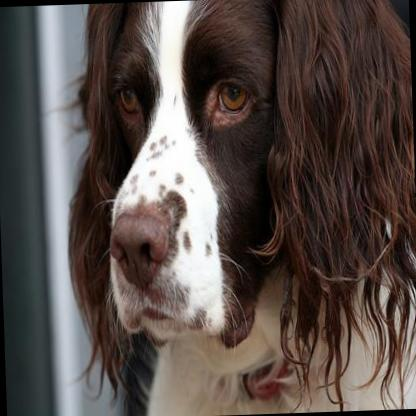English_springer: (57, 0, 416, 416)
